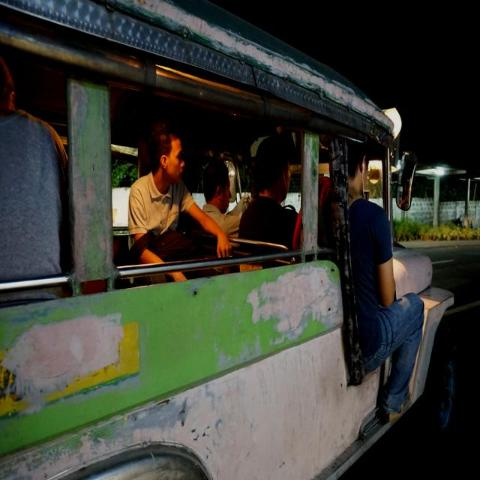jeepney: (0, 0, 460, 480)
